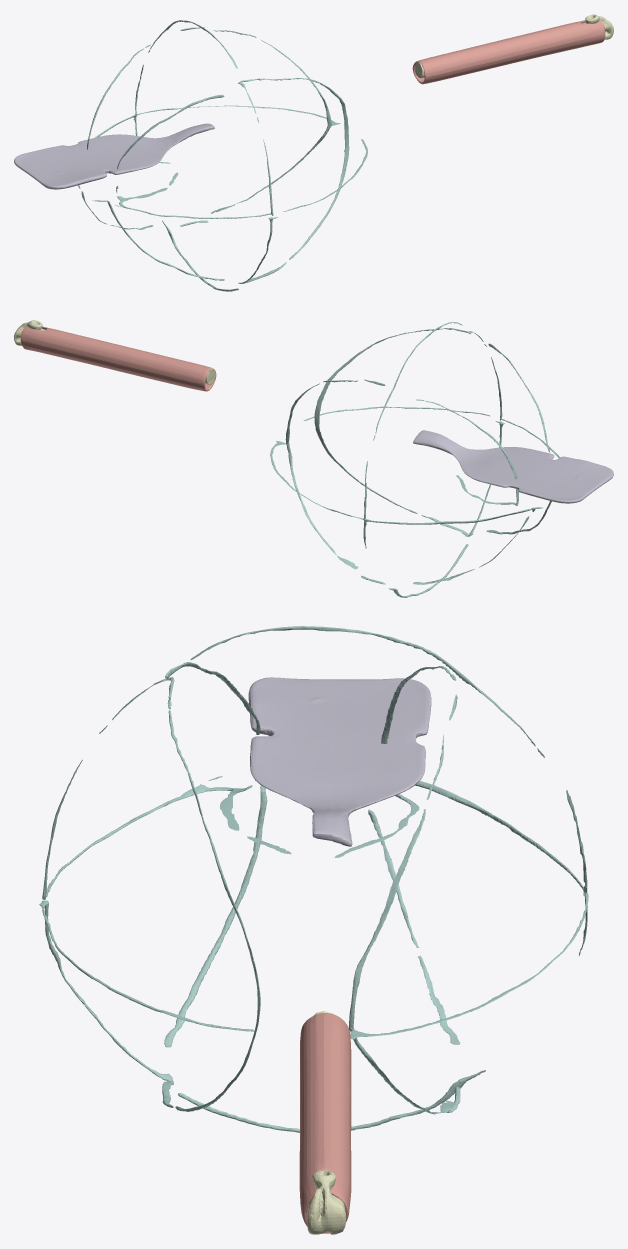
File: exploded_parts.glb
3 renders of one model, top to bottom at view 1: azimuth 30°, elevation 25°; view 2: azimuth 150°, elevation 25°; view 3: azimuth 270°, elevation 25°, orthographic. The views are drawn at different scales.
Parts seen in each view (by area): view 1: world; view 2: world; view 3: world.
Part boxes in pixels (x1,y1,x2,y2): world: (14, 14, 613, 291); world: (14, 320, 613, 597); world: (39, 626, 588, 1234).
Bounding box in the file's own units: 1.6 × 0.6715 × 0.6591.
